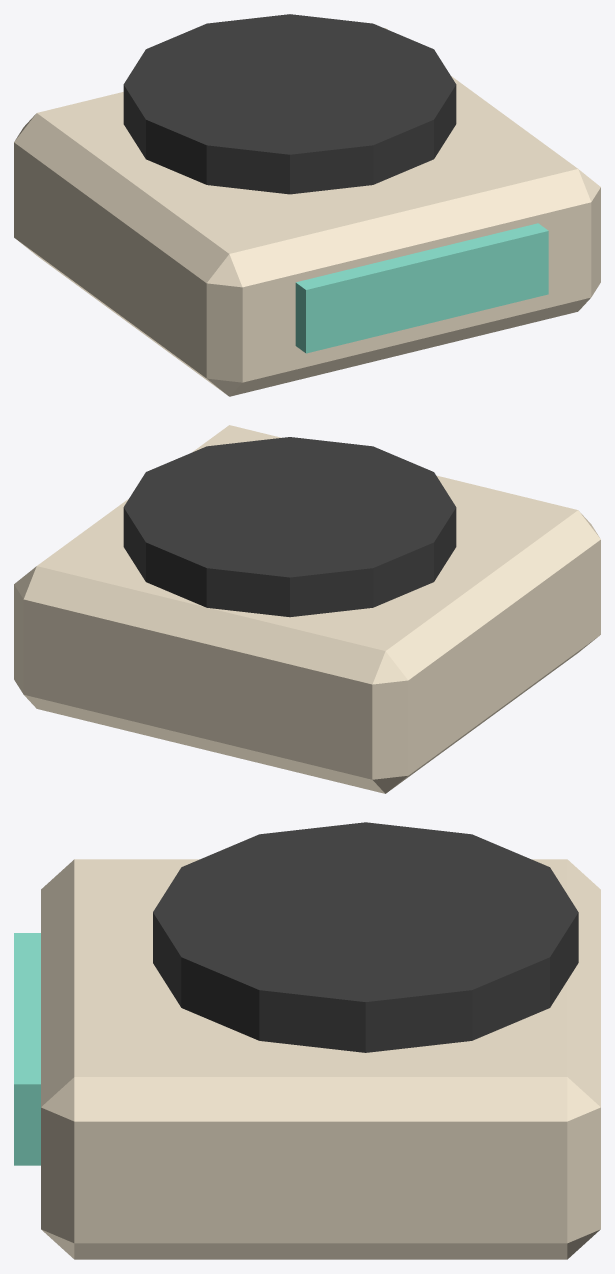
3 renders of one model, top to bottom at view 1: azimuth 30°, elevation 25°; view 2: azimuth 150°, elevation 25°; view 3: azimuth 270°, elevation 25°, orthographic. The views are drawn at different scales.
Visible parts, largest first — view 1: Instrument, Weighing pan, Readout; view 2: Instrument, Weighing pan; view 3: Instrument, Weighing pan, Readout.
Part boxes in pixels (<box>): Instrument: <box>14,28,600,396</box>; Weighing pan: <box>123,14,456,194</box>; Readout: <box>295,223,548,353</box>; Instrument: <box>14,425,600,793</box>; Weighing pan: <box>123,437,456,617</box>; Instrument: <box>41,859,600,1259</box>; Weighing pan: <box>153,822,578,1052</box>; Readout: <box>14,933,40,1165</box>.
Bounding box in the file's own units: 0.26 × 0.1175 × 0.262.
Materials: 1 (1 with a texture image).
